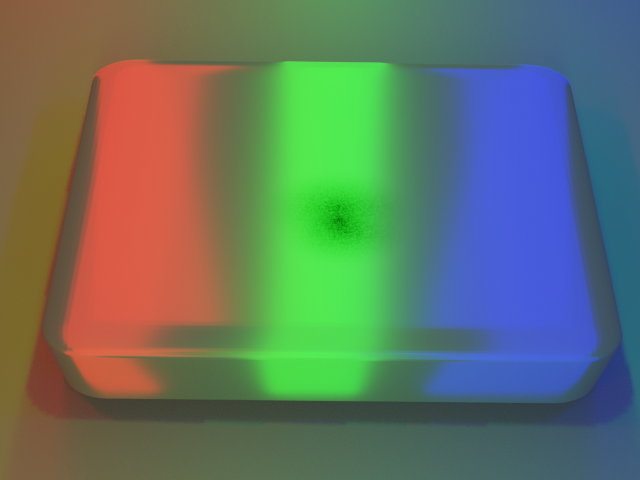stain: (224, 154, 440, 278)
